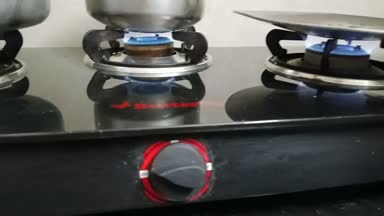flame_gas_on: (81, 23, 229, 202), (258, 22, 384, 85)
